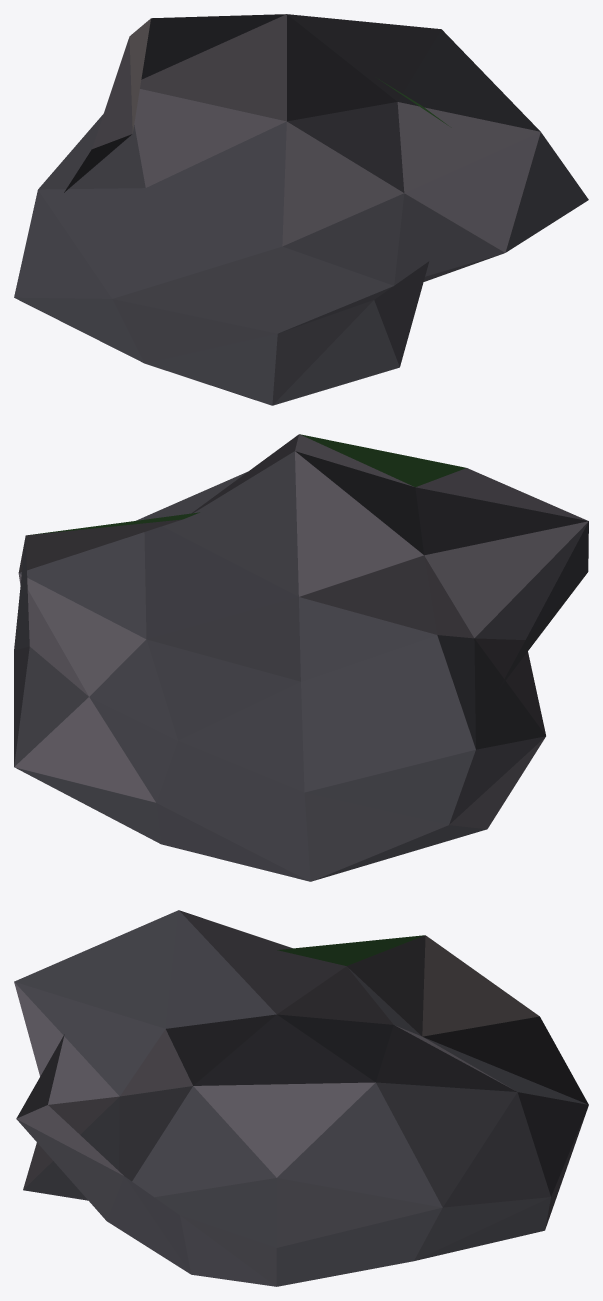
The model's file is rock_0.gltf.
3 renders of one model, top to bottom at view 1: azimuth 30°, elevation 25°; view 2: azimuth 150°, elevation 25°; view 3: azimuth 270°, elevation 25°, orthographic. The views are drawn at different scales.
Bounding box in the file's own units: 2.25 × 1.2 × 2.25.
